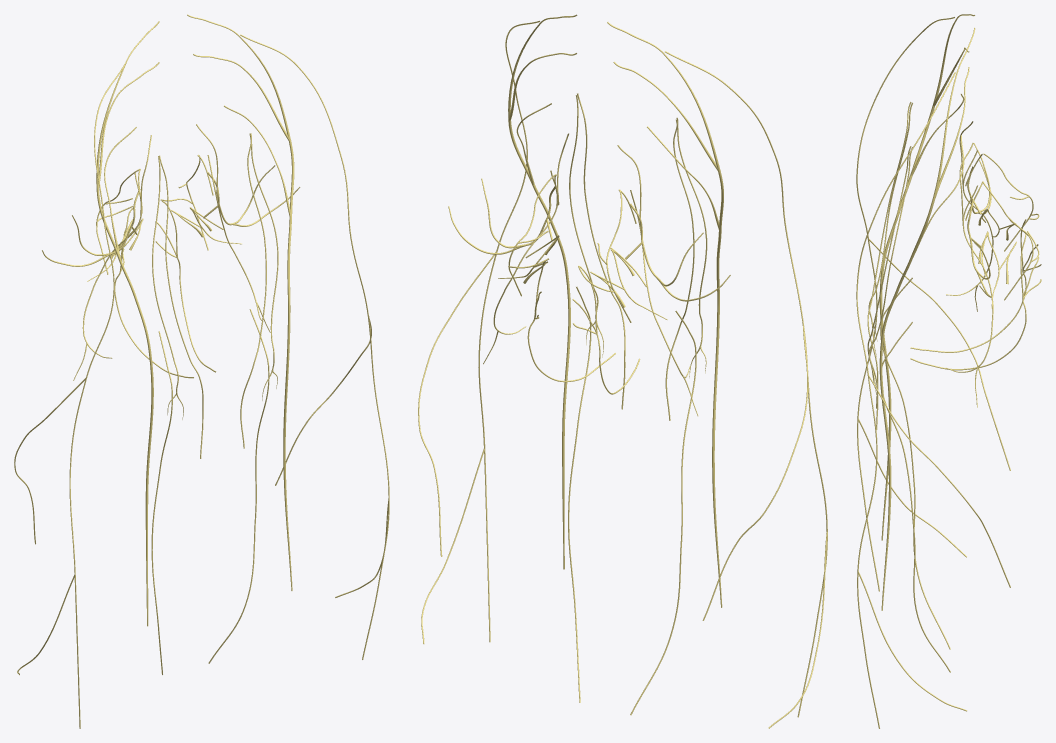
Rendered from nerfs-bassin.hi.glb.
3 views of the same model, side by side, from view 1: azimuth 30°, elevation 25°; view 2: azimuth 150°, elevation 25°; view 3: azimuth 270°, elevation 25° (orthographic). The views are drawn at different scales.
Visible parts, largest first — view 1: ZA-femoral-nerve-g, ZA-femoral-nerve-d, ZA-lateral-femoral-cutaneous-nerve-d, ZA-lateral-femoral-cutaneous-nerve-g, ZA-anterior-branch-of-obturator-nerve-g, ZA-anterior-branch-of-obturator-nerve-d, ZA-nerve-to-quadratus-femoris-muscle-d, ZA-genital-branch-of-genitofemoral-nerve-g; view 2: ZA-femoral-nerve-d, ZA-lateral-femoral-cutaneous-nerve-g, ZA-lateral-femoral-cutaneous-nerve-d, ZA-femoral-nerve-g, ZA-anterior-branch-of-obturator-nerve-g, ZA-anterior-branch-of-obturator-nerve-d, ZA-nerve-to-quadratus-femoris-muscle-d; view 3: ZA-femoral-nerve-g, ZA-lateral-femoral-cutaneous-nerve-g, ZA-lateral-femoral-cutaneous-nerve-d, ZA-femoral-nerve-d, ZA-nerve-to-quadratus-femoris-muscle-g, ZA-anterior-branch-of-obturator-nerve-d, ZA-anterior-branch-of-obturator-nerve-g, ZA-genital-branch-of-genitofemoral-nerve-d, ZA-pudendal-nerve-g, ZA-genital-branch-of-genitofemoral-nerve-g, ZA-nerve-to-quadratus-femoris-muscle-d, ZA-femoral-branch-of-genitofemoral-nerve-g (+5 smaller).
Part boxes in pixels (box(x1,y1,x2,y2)): ZA-femoral-nerve-g: box(187, 14, 294, 590); ZA-femoral-nerve-d: box(96, 21, 159, 626); ZA-lateral-femoral-cutaneous-nerve-d: box(14, 62, 126, 728); ZA-lateral-femoral-cutaneous-nerve-g: box(240, 34, 389, 659); ZA-anterior-branch-of-obturator-nerve-g: box(208, 309, 269, 663); ZA-anterior-branch-of-obturator-nerve-d: box(151, 331, 172, 674); ZA-nerve-to-quadratus-femoris-muscle-d: box(73, 135, 151, 380); ZA-genital-branch-of-genitofemoral-nerve-g: box(240, 133, 266, 448); ZA-femoral-nerve-d: box(607, 22, 723, 607); ZA-lateral-femoral-cutaneous-nerve-g: box(418, 20, 540, 643); ZA-lateral-femoral-cutaneous-nerve-d: box(665, 51, 827, 728); ZA-femoral-nerve-g: box(508, 14, 577, 569); ZA-anterior-branch-of-obturator-nerve-g: box(568, 286, 591, 702); ZA-anterior-branch-of-obturator-nerve-d: box(630, 310, 696, 715); ZA-nerve-to-quadratus-femoris-muscle-d: box(610, 145, 698, 416); ZA-femoral-nerve-g: box(879, 27, 975, 610); ZA-lateral-femoral-cutaneous-nerve-g: box(856, 72, 1010, 728); ZA-lateral-femoral-cutaneous-nerve-d: box(856, 17, 1010, 591); ZA-femoral-nerve-d: box(879, 14, 974, 540); ZA-nerve-to-quadratus-femoris-muscle-g: box(946, 143, 993, 407); ZA-anterior-branch-of-obturator-nerve-d: box(880, 277, 950, 649); ZA-anterior-branch-of-obturator-nerve-g: box(882, 322, 950, 672); ZA-genital-branch-of-genitofemoral-nerve-d: box(867, 102, 911, 408); ZA-pudendal-nerve-g: box(910, 234, 1041, 370); ZA-genital-branch-of-genitofemoral-nerve-g: box(867, 146, 911, 429); ZA-nerve-to-quadratus-femoris-muscle-d: box(946, 121, 993, 311); ZA-femoral-branch-of-genitofemoral-nerve-g: box(868, 147, 912, 395).
Size of the model in its own units: 0.3101 by 0.5477 by 0.1437.
